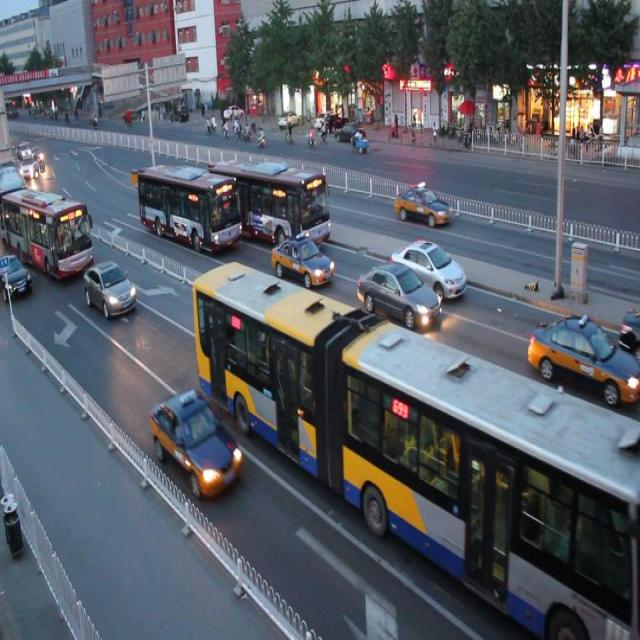car: (525, 313, 640, 404), (150, 386, 242, 497), (356, 257, 438, 333), (391, 235, 466, 302), (270, 232, 336, 286), (84, 261, 138, 320), (393, 179, 452, 230), (1, 250, 31, 301), (169, 165, 203, 193)
van: (192, 260, 640, 640), (207, 156, 331, 249), (138, 164, 241, 254), (1, 185, 92, 278)
